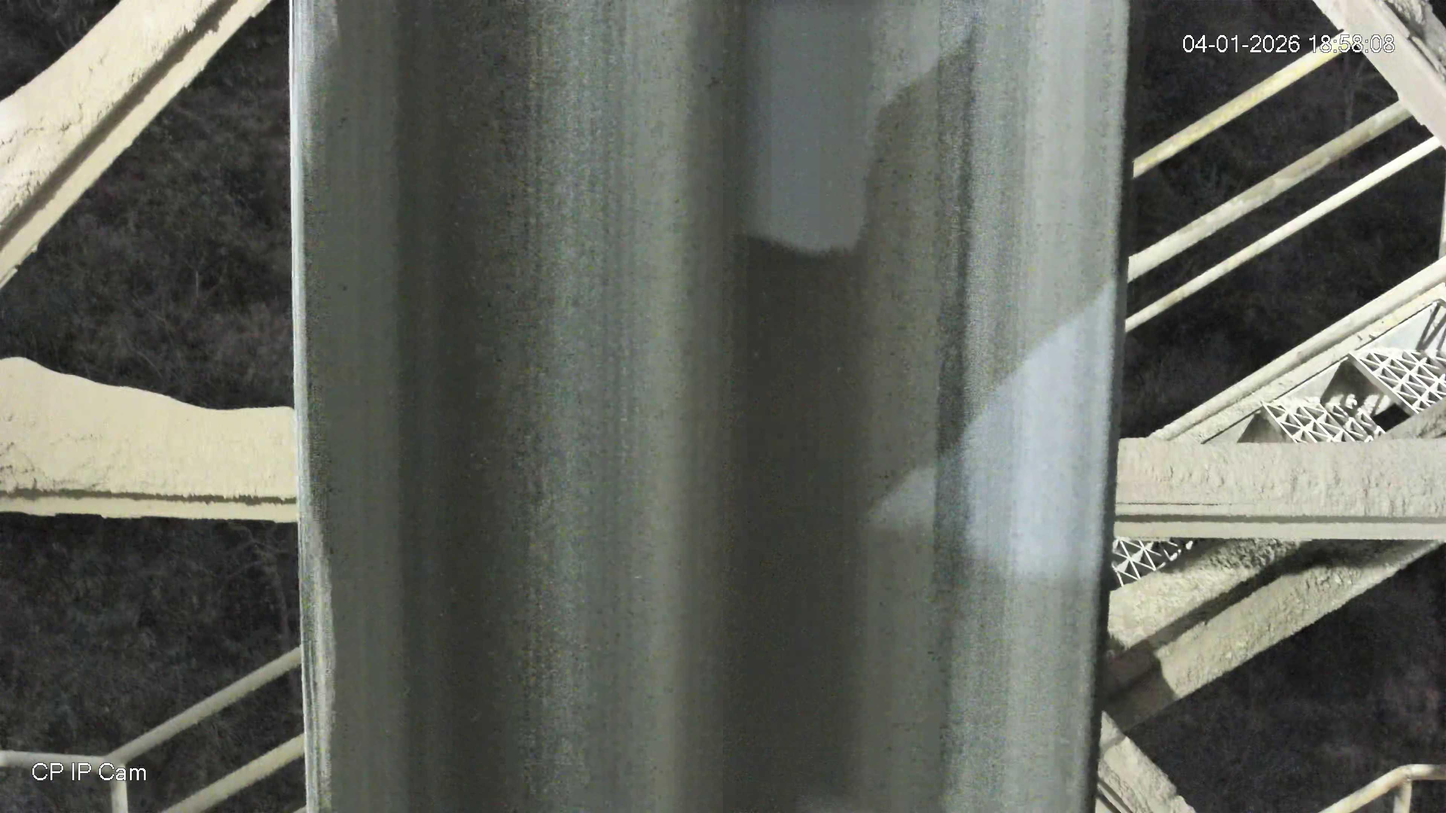belt_roi: (292, 0, 1131, 813)
